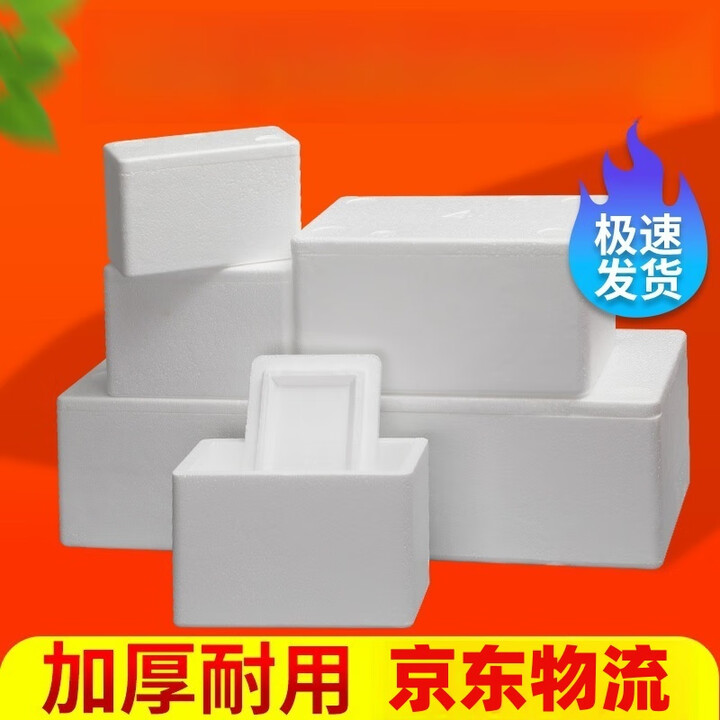泡沫箱: (59, 127, 688, 627)
